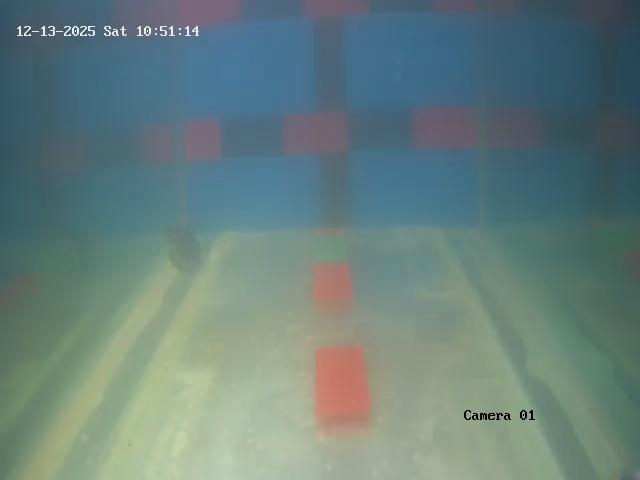fish: (160, 220, 207, 273)
